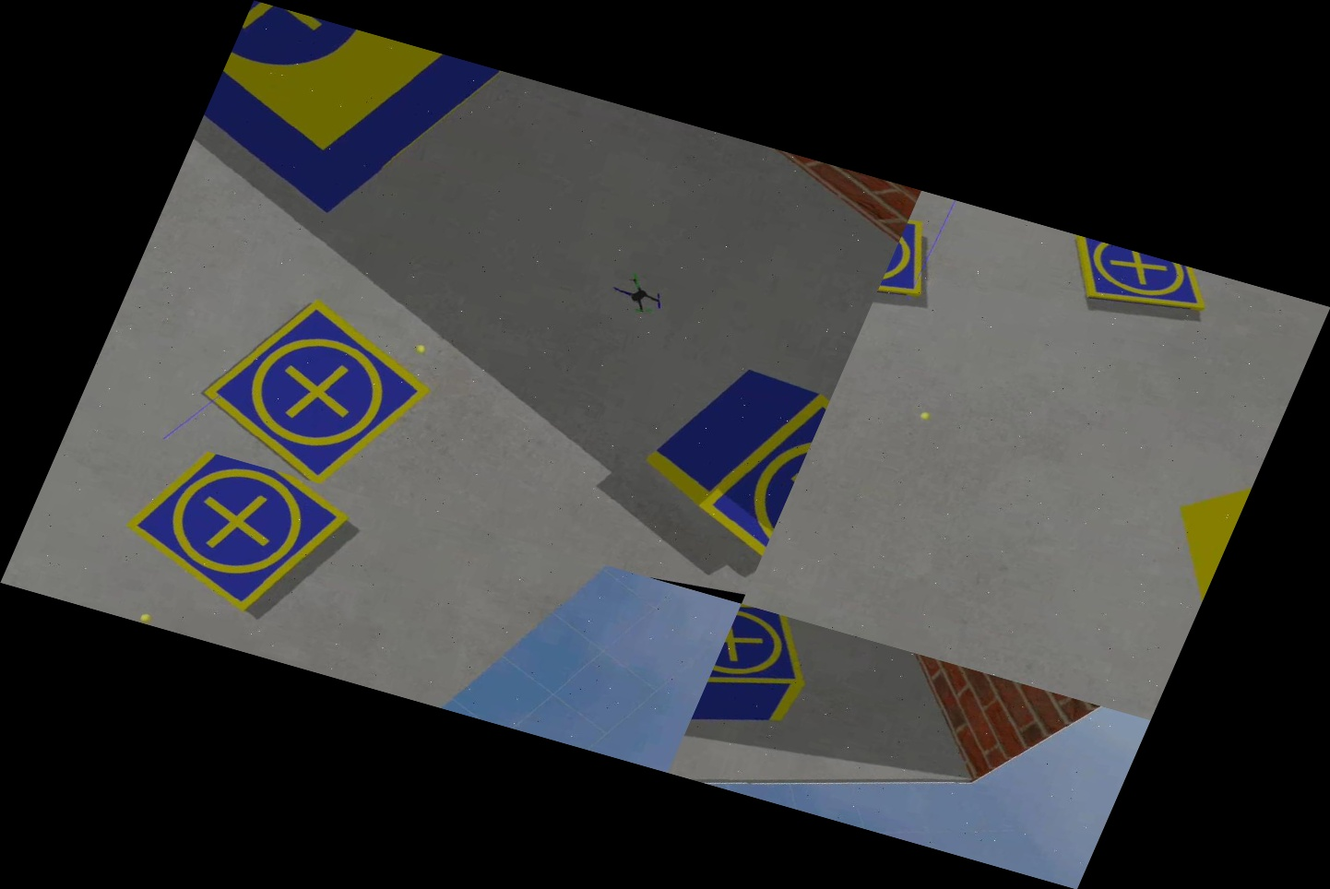large_base: (166, 0, 561, 289)
small_base: (164, 265, 477, 506), (84, 434, 373, 646), (642, 358, 836, 603), (1048, 234, 1223, 337), (702, 604, 832, 719), (870, 217, 953, 320)
